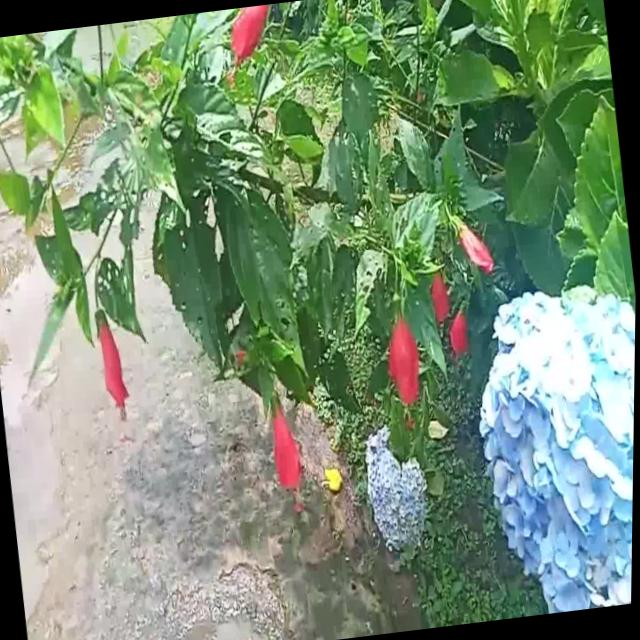Flower: (462, 273, 637, 619), (361, 408, 444, 561), (87, 300, 147, 428), (262, 394, 316, 495), (225, 4, 283, 77), (383, 306, 425, 405), (450, 213, 502, 284)
